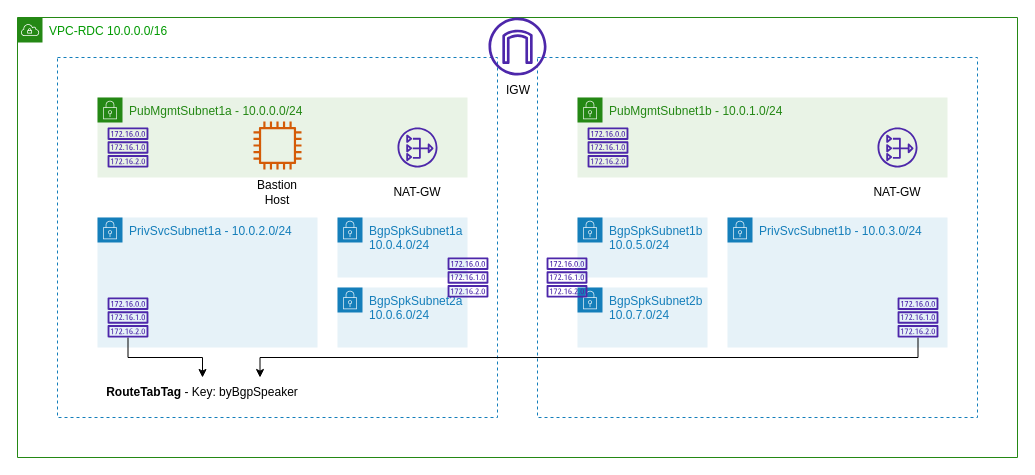
Image size: 1035x475. Some labels were removed from this diagram. The box of each missing label's shape, as (x1, y1, x2, y2) in pixels:
Availability Zone-A: (56, 56, 498, 418)
Availability Zone-B: (536, 56, 978, 418)
